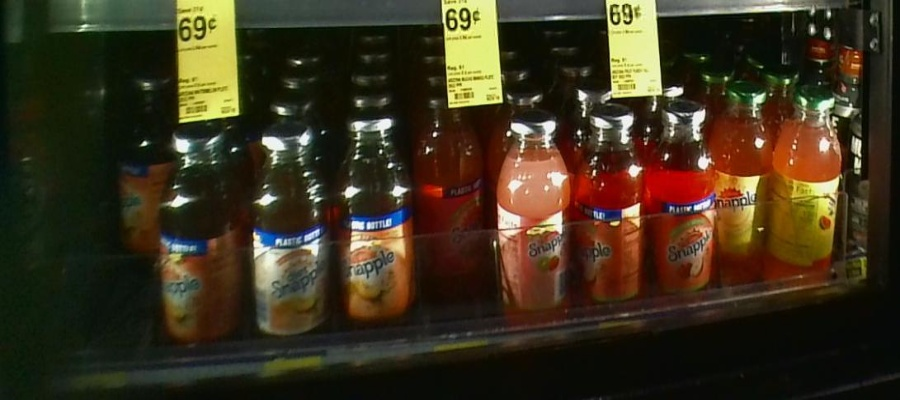bottle: (331, 98, 413, 333), (491, 109, 576, 328), (248, 119, 331, 343), (166, 125, 246, 352), (773, 80, 844, 284), (579, 104, 648, 309), (417, 85, 484, 294), (650, 94, 714, 302), (716, 71, 770, 271), (116, 57, 166, 261)
